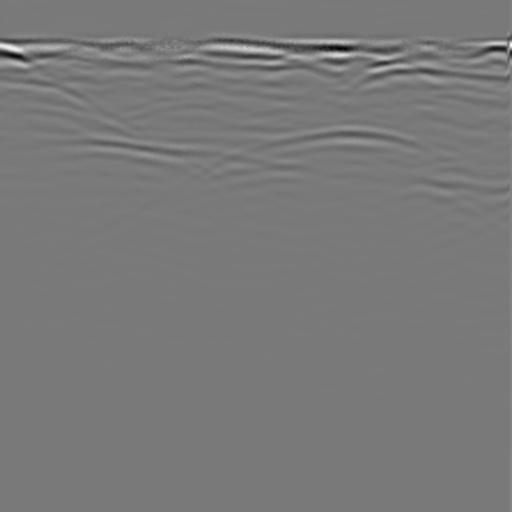hyperbola: (205, 114, 492, 252)
